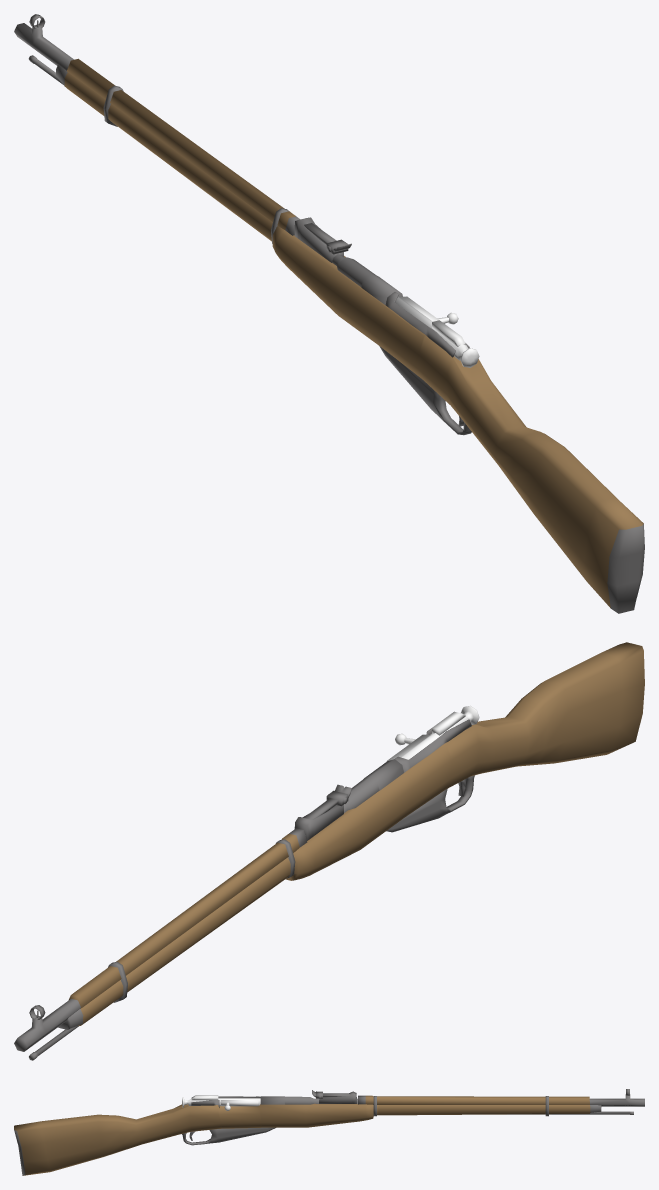
Rendered from mosin9130.glb.
The picture shows the model from 3 angles, top to bottom: view 1: azimuth 30°, elevation 25°; view 2: azimuth 150°, elevation 25°; view 3: azimuth 270°, elevation 25°; orthographic projection. The views are drawn at different scales.
Visible parts, largest first — view 1: Cube; view 2: Cube; view 3: Cube.
Boxes of the visible parts, box(x1,y1,x2,y2) form: Cube: box(14, 14, 644, 613); Cube: box(14, 642, 644, 1060); Cube: box(14, 1089, 644, 1175).
Bounding box in the file's own units: 0.4581 × 1.48 × 9.98.
